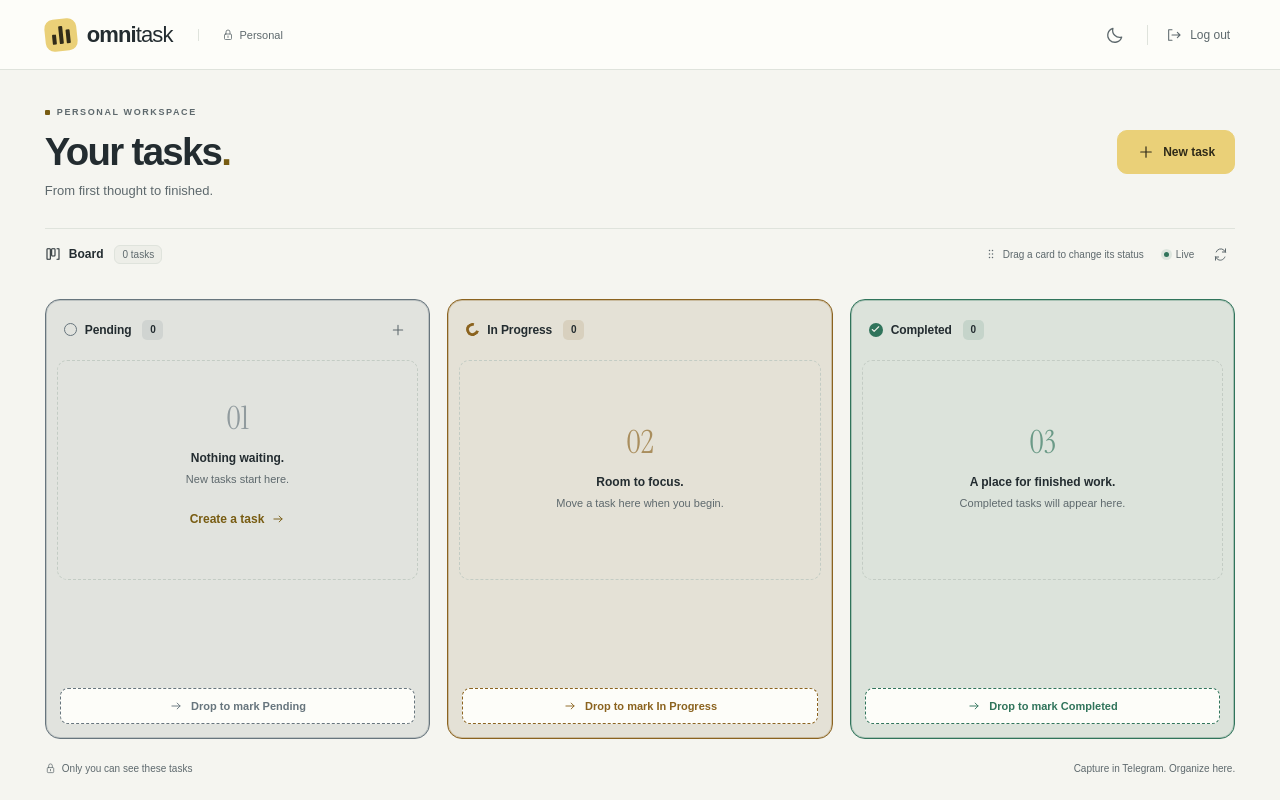
split-host authentication and transport › exchanges only once under StrictMode and revokes the hosted cookie through logout
Check: the text "Nothing waiting." is shown, box [191,451,284,465]
Click the button "Log out" at (1198, 34), box [1161,14,1235,54]
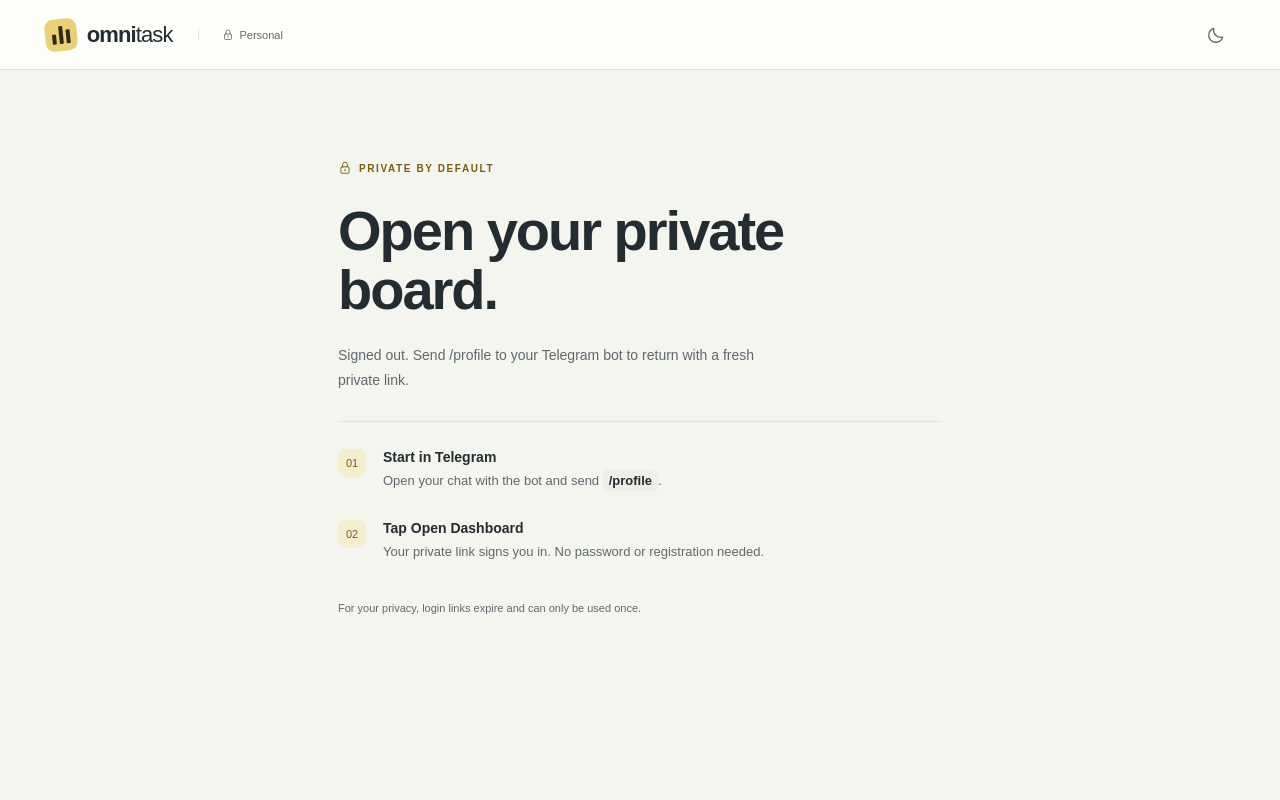
Check: the text "Signed out. Send /profile" is shown, box [338,347,754,388]
Check: the button "New task" is gone
